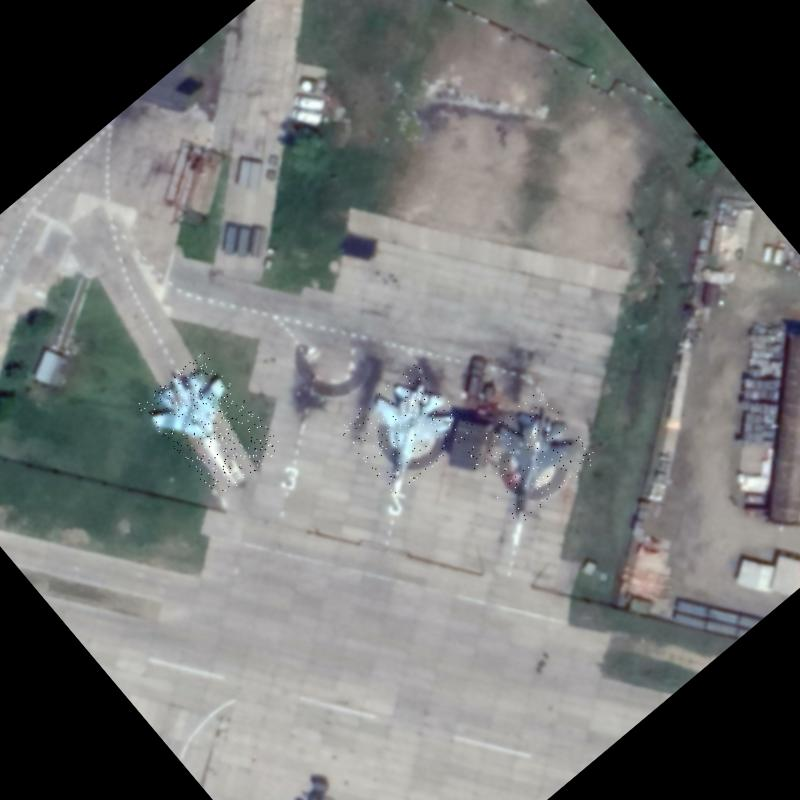A1: (136, 349, 284, 502), (460, 386, 600, 525), (336, 359, 476, 497)
